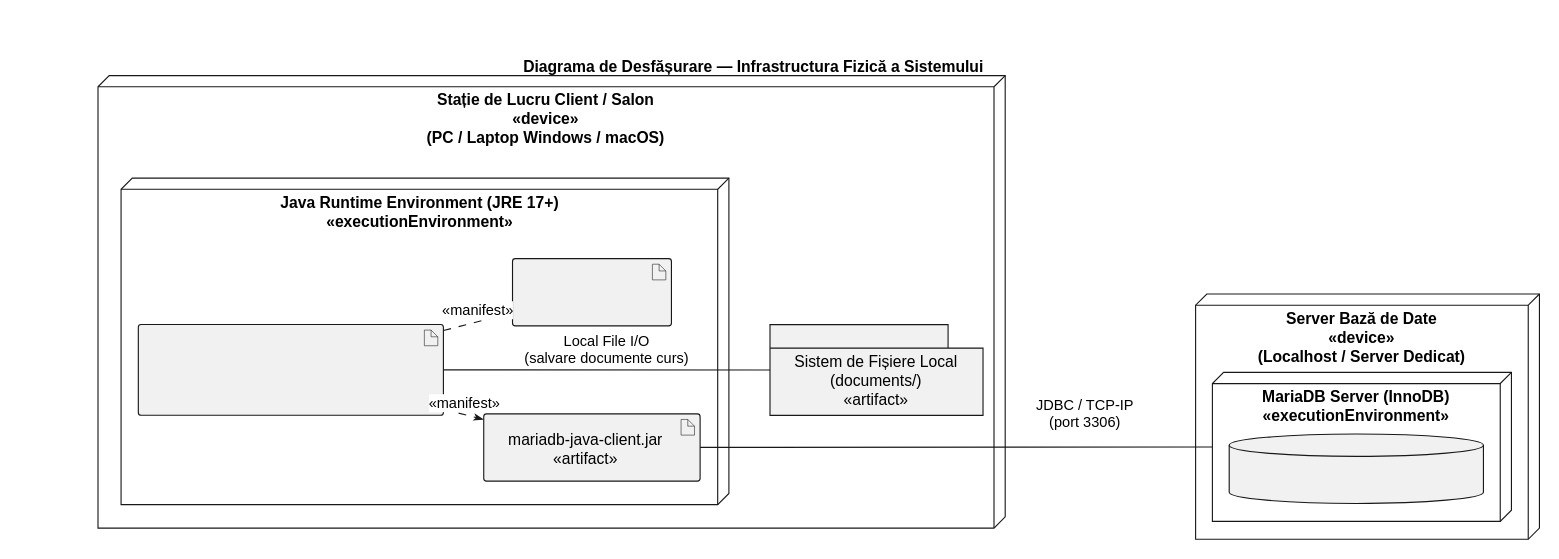
The diagram is 1559 pixels wide and 559 high, and some of its shapes have lost their labels. The centre of each missing label's shape, as x and y in pixels:
proiect_salon «database» (21 tabele relaționale, utf8mb4): point (1355, 468)
SalonAcademie.jar «artifact» (pachetele salon, salon.ui, salon.db): point (290, 369)
swing-flatlaf.jar «artifact»: point (591, 291)
